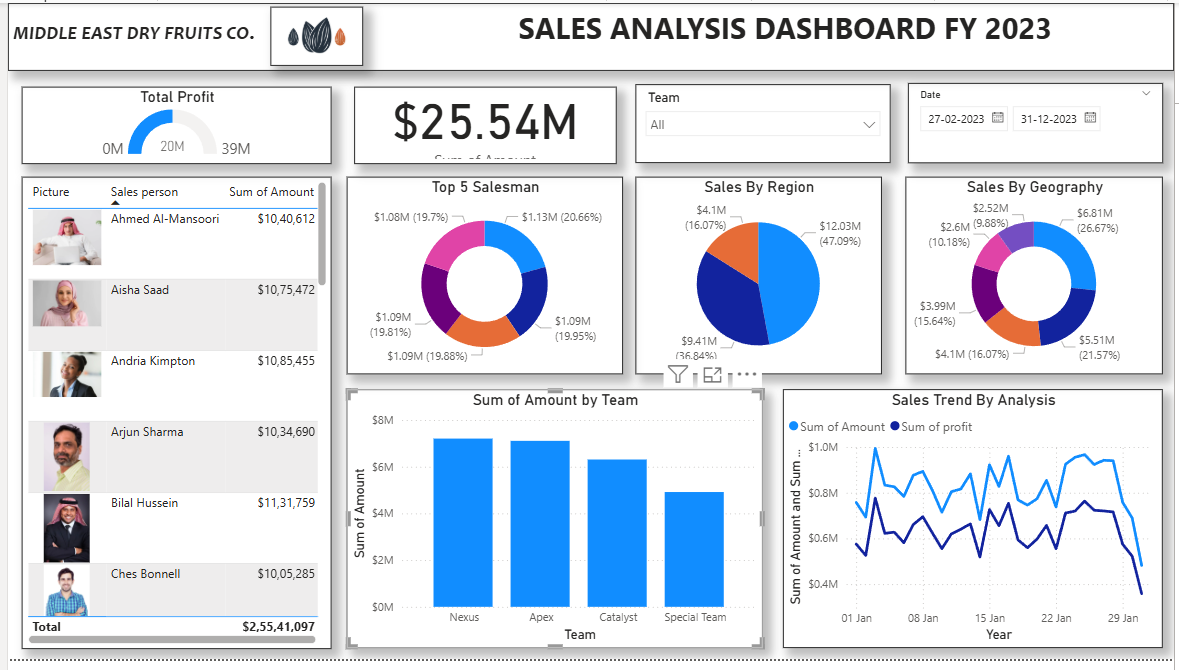

The page's visual inventory and layout, read from the dashboard file:
{"tool":"powerbi","page":{"name":"Page 3","canvas":[1280,720],"ordinal":2},"visuals":[{"type":"tableEx","fields":{"Values":["EmployeeData.Picture","EmployeeData.Sales person","Sum(sales.Amount)"]},"box":[15.1,190.7,340.3,518.7],"z":0},{"type":"pieChart","title":"Sales By Region","fields":{"Category":["Locations.Region"],"Y":["Sum(sales.Amount)"]},"box":[688.9,190.7,270.3,216.8],"z":1000},{"type":"lineChart","title":"Sales Trend By Analysis","fields":{"Category":["sales.Date.Variation.Date Hierarchy.Year","sales.Date.Variation.Date Hierarchy.Day"],"Y":["Sum(sales.Amount)","Sum(sales.profit)"]},"box":[850.8,424,417.2,284],"z":2000},{"type":"columnChart","fields":{"Category":["EmployeeData.Team"],"Y":["Sum(sales.Amount)"]},"box":[371.9,424,456.9,284],"z":3000},{"type":"donutChart","title":"Top 5 Salesman","fields":{"Category":["EmployeeData.Sales person"],"Y":["Sum(sales.Amount)"]},"box":[371.9,190.7,303.3,216.8],"z":4000},{"type":"donutChart","title":"Sales By Geography","fields":{"Category":["Locations.Geo"],"Y":["Sum(sales.Amount)"]},"box":[985.3,190.7,282.7,216.8],"z":5000},{"type":"gauge","title":"Total Profit","fields":{"Y":["Sum(sales.profit)"]},"box":[15.1,91.9,340.3,85.1],"z":6000},{"type":"slicer","fields":{"Values":["sales.Date"]},"box":[988,87.8,279.9,87.8],"z":7000},{"type":"card","fields":{"Values":["Sum(sales.Amount)"]},"box":[380.1,91.9,288.2,85.1],"z":8000},{"type":"slicer","fields":{"Values":["EmployeeData.Team"]},"box":[688.9,89.2,279.9,86.4],"z":9000},{"type":"textbox","box":[0,0,1280.3,74.1],"z":10000},{"type":"image","box":[288.2,4.1,101.5,64.5],"z":11000}]}

Visuals, with their boxes in screenshot pixels (x1, y1, x2, y2), scaled from the page's 1280x720 canvas onto the 1179x670 screenshot:
tableEx - EmployeeData.Picture x EmployeeData.Sales person: <region>14, 177, 327, 660</region>
"Sales By Region" pieChart: <region>635, 177, 884, 379</region>
"Sales Trend By Analysis" lineChart: <region>784, 395, 1168, 659</region>
columnChart - EmployeeData.Team x Sum(sales.Amount): <region>343, 395, 763, 659</region>
"Top 5 Salesman" donutChart: <region>343, 177, 622, 379</region>
"Sales By Geography" donutChart: <region>908, 177, 1168, 379</region>
"Total Profit" gauge: <region>14, 86, 327, 165</region>
slicer - sales.Date: <region>910, 82, 1168, 163</region>
card - Sum(sales.Amount): <region>350, 86, 616, 165</region>
slicer - EmployeeData.Team: <region>635, 83, 892, 163</region>
textbox: <region>0, 0, 1178, 69</region>
image: <region>265, 4, 359, 64</region>
